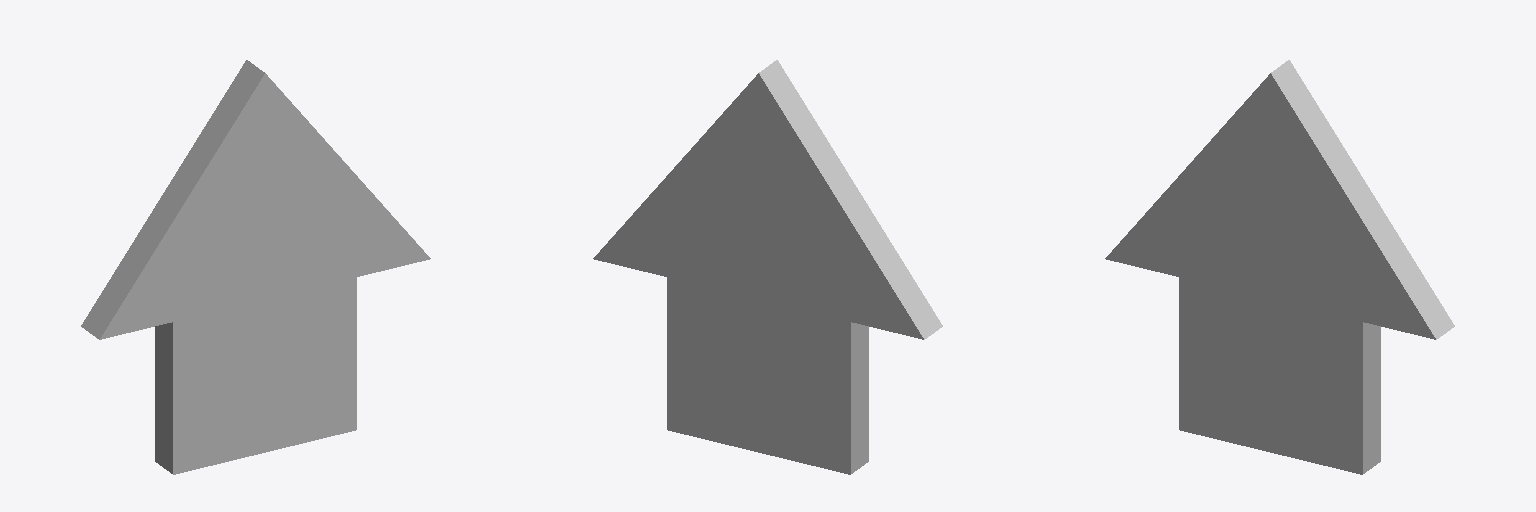
The model's file is upneto_upvote.obj.
3 views of the same model, side by side, from view 1: azimuth 30°, elevation 25°; view 2: azimuth 150°, elevation 25°; view 3: azimuth 330°, elevation 25° (orthographic).
Parts seen in each view (by area): view 1: upneto_upvote:pCube1; view 2: upneto_upvote:pCube1; view 3: upneto_upvote:pCube1.
Boxes of the visible parts, box(x1,y1,x2,y2) form: upneto_upvote:pCube1: box(81, 60, 430, 474); upneto_upvote:pCube1: box(593, 60, 942, 474); upneto_upvote:pCube1: box(1105, 60, 1454, 474).
Bounding box in the file's own units: 5.12 × 5.6 × 0.5.